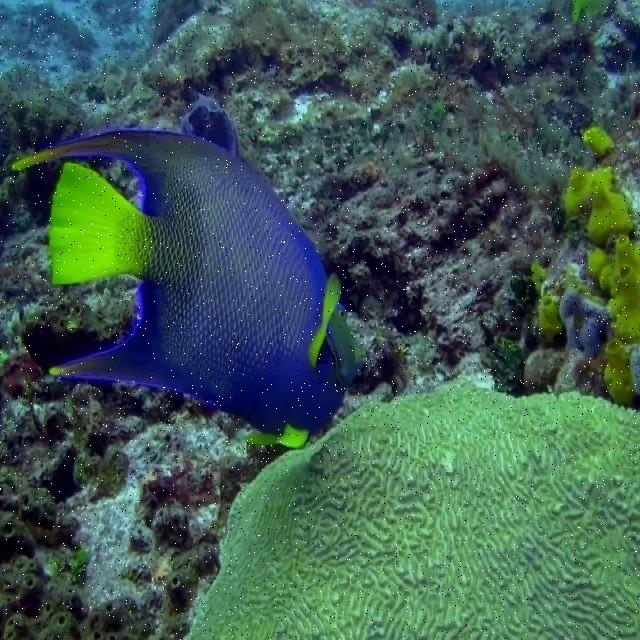aquatic plants: (561, 169, 639, 403)
fish: (9, 93, 363, 448)
reefs: (187, 381, 640, 640)
